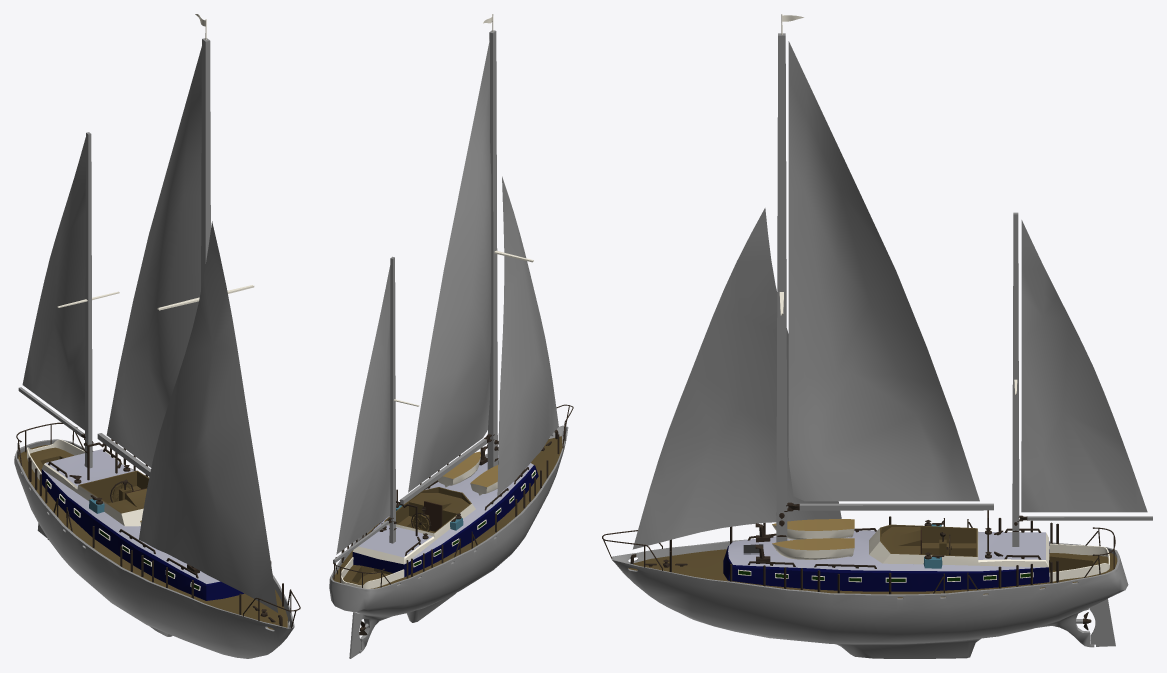
3 renders of one model, left to right at view 1: azimuth 30°, elevation 25°; view 2: azimuth 150°, elevation 25°; view 3: azimuth 270°, elevation 25°, orthographic. The views are drawn at different scales.
Visible parts, largest first — view 1: Group_001, CILNUEVOS_001; view 2: Group_001, CILNUEVOS_001; view 3: Group_001, CILNUEVOS_001.
Part boxes in pixels (x1=…): Group_001: x1=22, y1=46, x2=277, y2=612; CILNUEVOS_001: x1=14, y1=14, x2=300, y2=658; Group_001: x1=336, y1=39, x2=558, y2=554; CILNUEVOS_001: x1=329, y1=14, x2=573, y2=658; Group_001: x1=632, y1=41, x2=1147, y2=549; CILNUEVOS_001: x1=602, y1=14, x2=1152, y2=658.
Bounding box in the file's own units: 92918 × 454691 × 352565.
